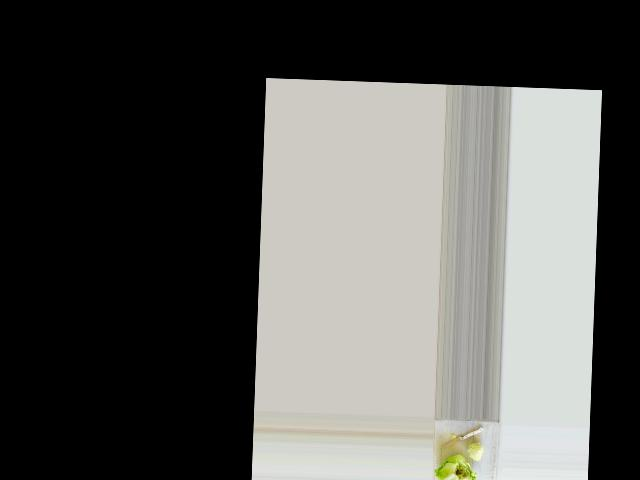lettuce: (435, 458, 476, 480)
